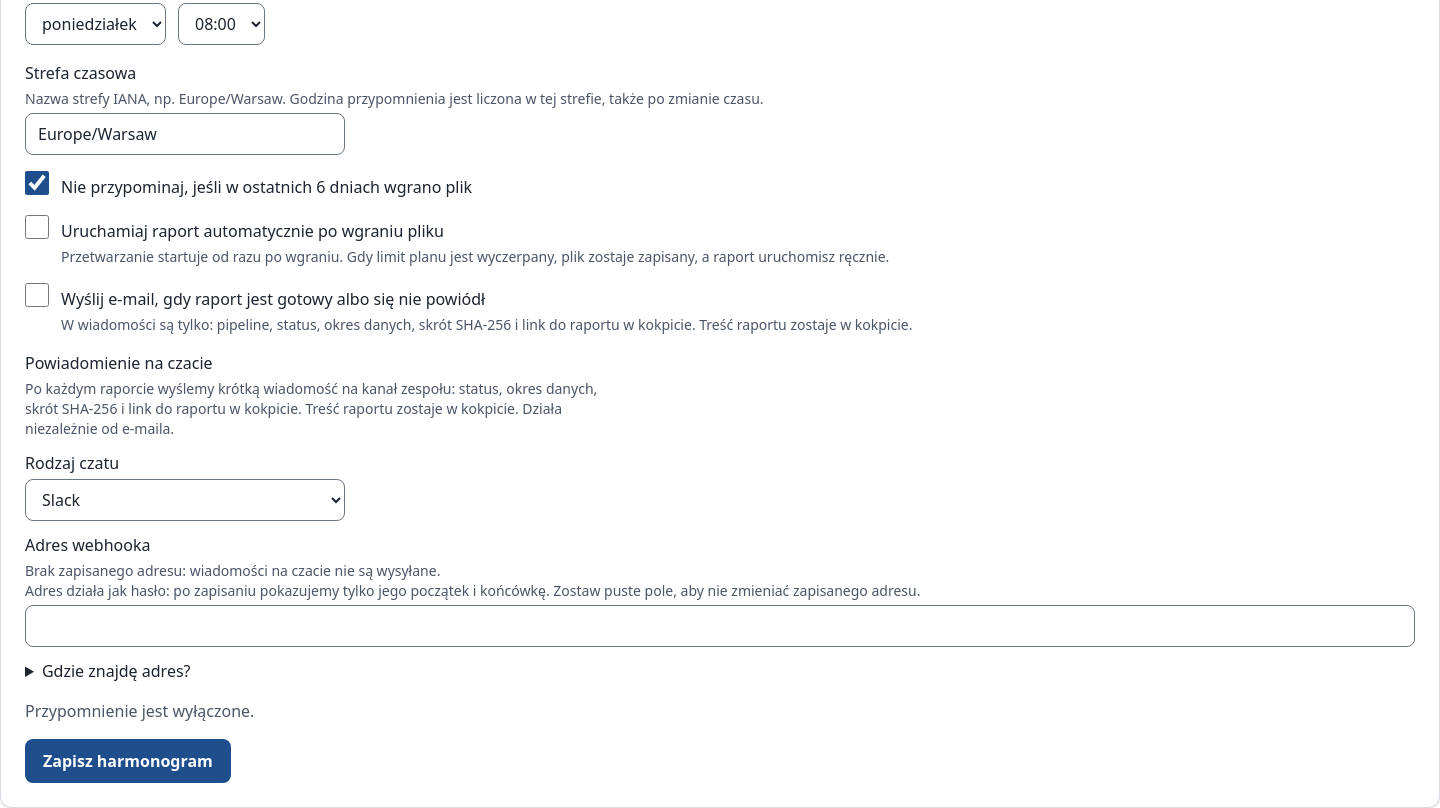
it: ScheduleSettingsCard › błąd 422 adresu z API pokazuje komunikat przy polu adresu
(page scrolled)
Type "https://intranet.example.test/hook" into the field labelled "Adres webhooka" at (720, 626), box [25, 605, 1415, 647]
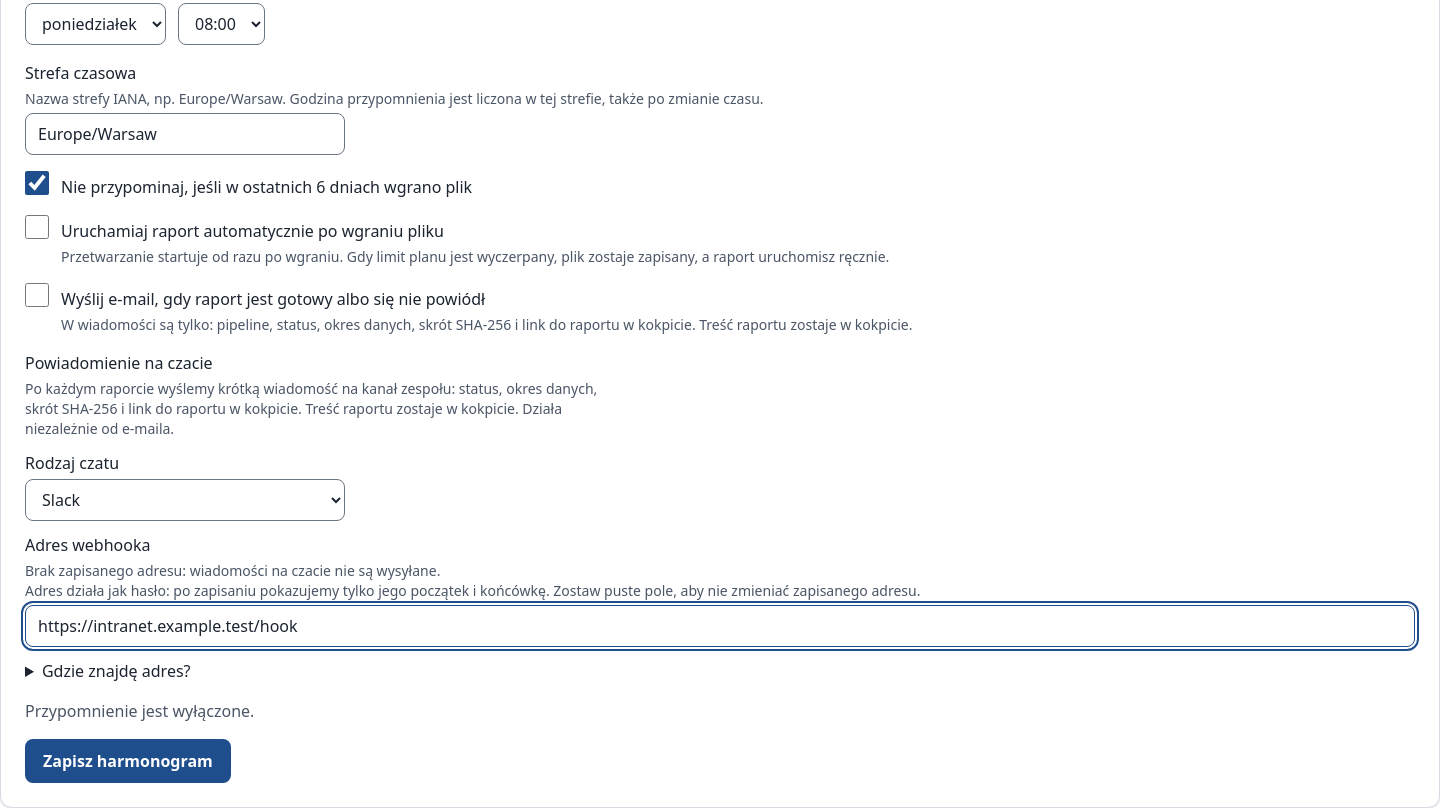
Click the button "Zapisz harmonogram" at (128, 761), box [25, 739, 231, 783]
(page scrolled)
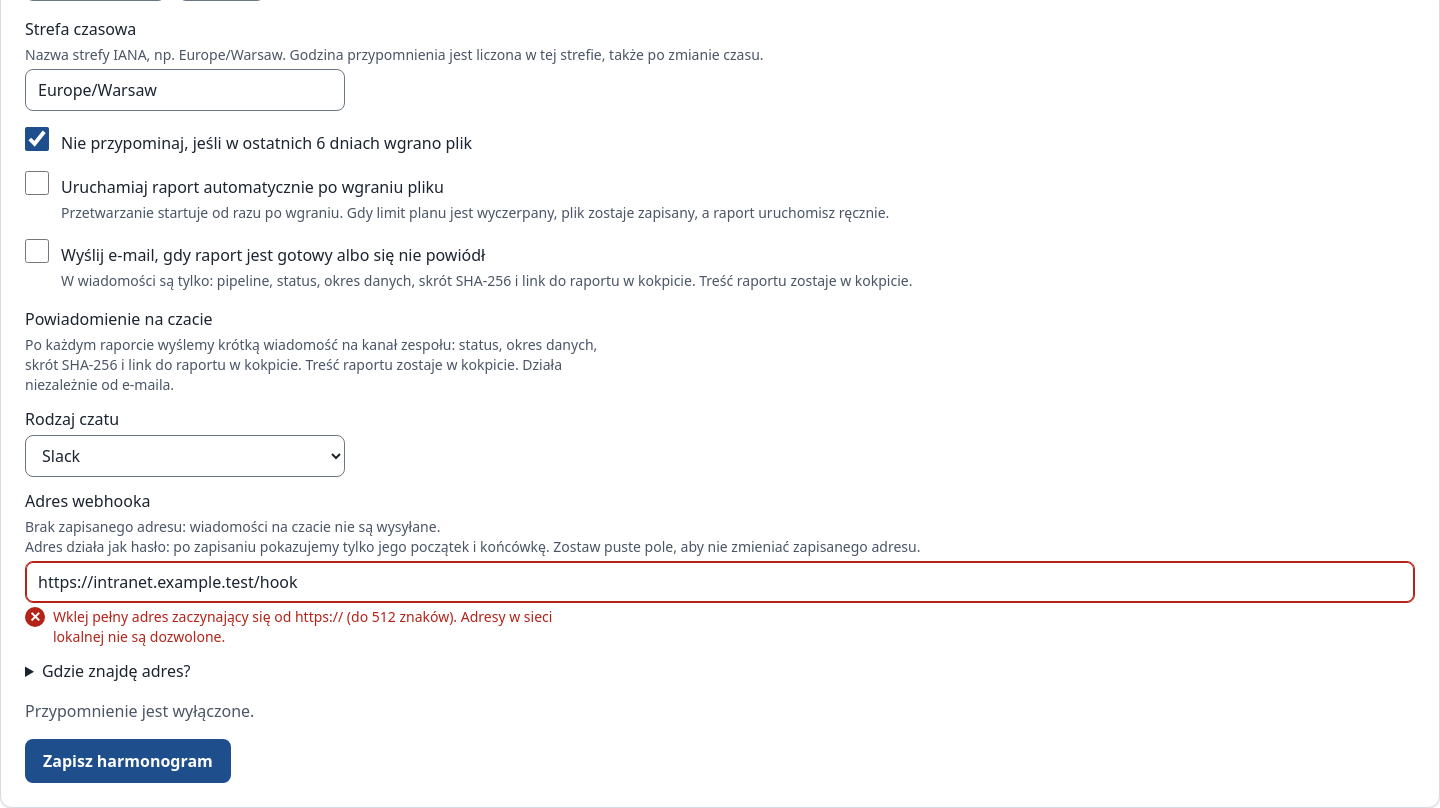
Check: the text "Adresy w sieci lokalnej nie są dozwolone" is shown 2 times
